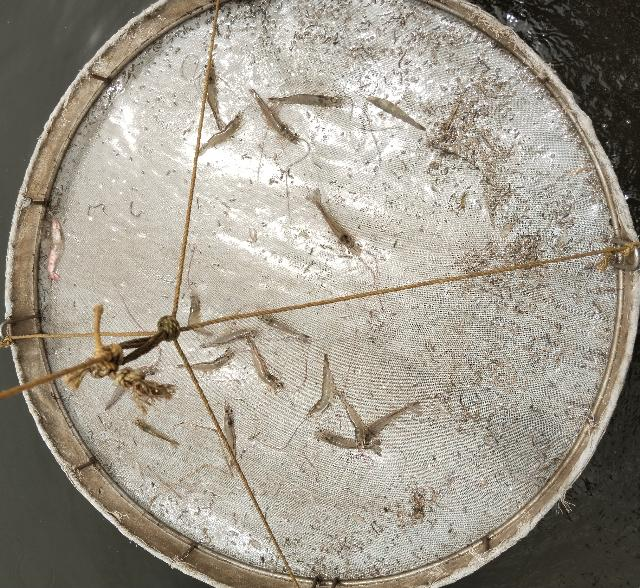shrimp: (304, 188, 362, 258), (249, 88, 302, 146), (364, 401, 422, 446), (246, 336, 287, 396), (366, 96, 427, 131), (197, 112, 241, 158), (311, 431, 383, 458), (255, 312, 310, 344), (203, 59, 227, 131), (306, 355, 333, 417), (132, 417, 180, 451), (337, 392, 364, 451), (198, 328, 259, 349), (176, 350, 233, 372), (268, 94, 347, 109), (188, 293, 213, 336), (48, 218, 64, 283), (223, 405, 237, 469)
